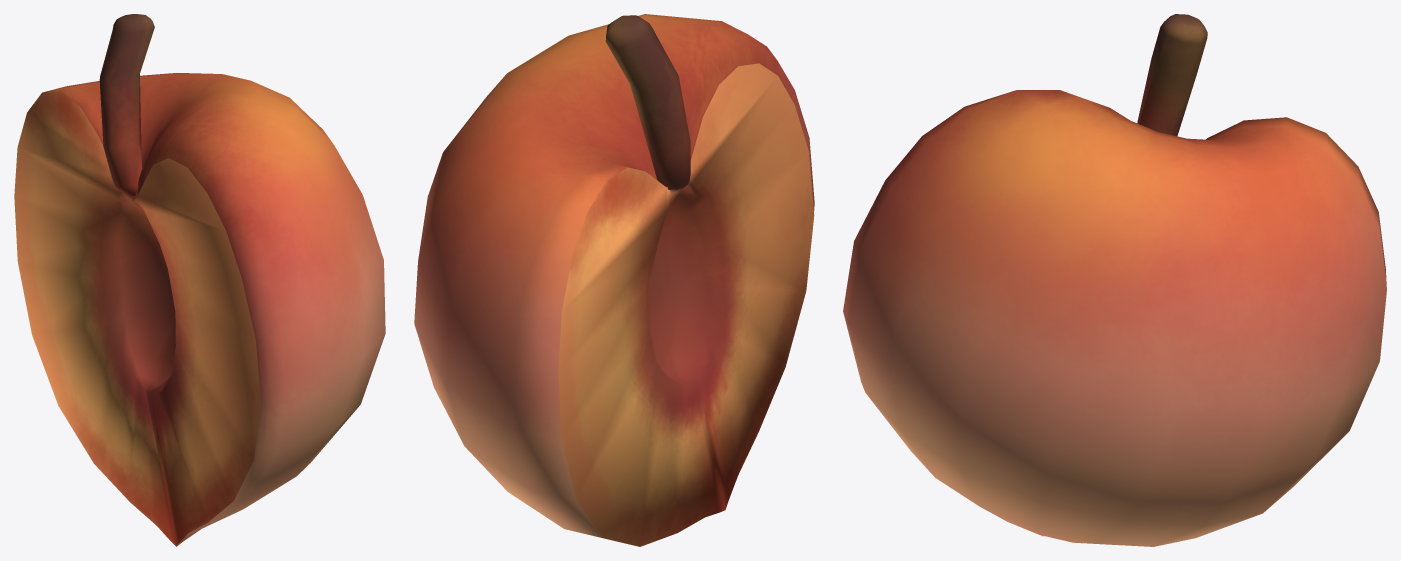
File: Ingrediente_PeachMitad_R.fbx
The picture shows the model from 3 angles, left to right: view 1: azimuth 30°, elevation 25°; view 2: azimuth 150°, elevation 25°; view 3: azimuth 270°, elevation 25°; orthographic projection. The views are drawn at different scales.
Parts seen in each view (by area): view 1: m_PeachMitad_01; view 2: m_PeachMitad_01; view 3: m_PeachMitad_01.
Part boxes in pixels (box(x1,y1,x2,y2)): m_PeachMitad_01: box(14, 14, 385, 546); m_PeachMitad_01: box(414, 14, 814, 546); m_PeachMitad_01: box(843, 14, 1386, 546).
Size of the model in its own units: 20.63 by 41.62 by 38.68.
